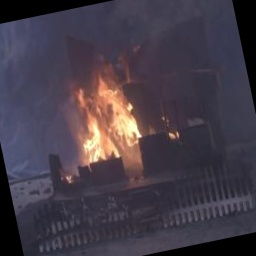fire: (52, 51, 172, 176)
